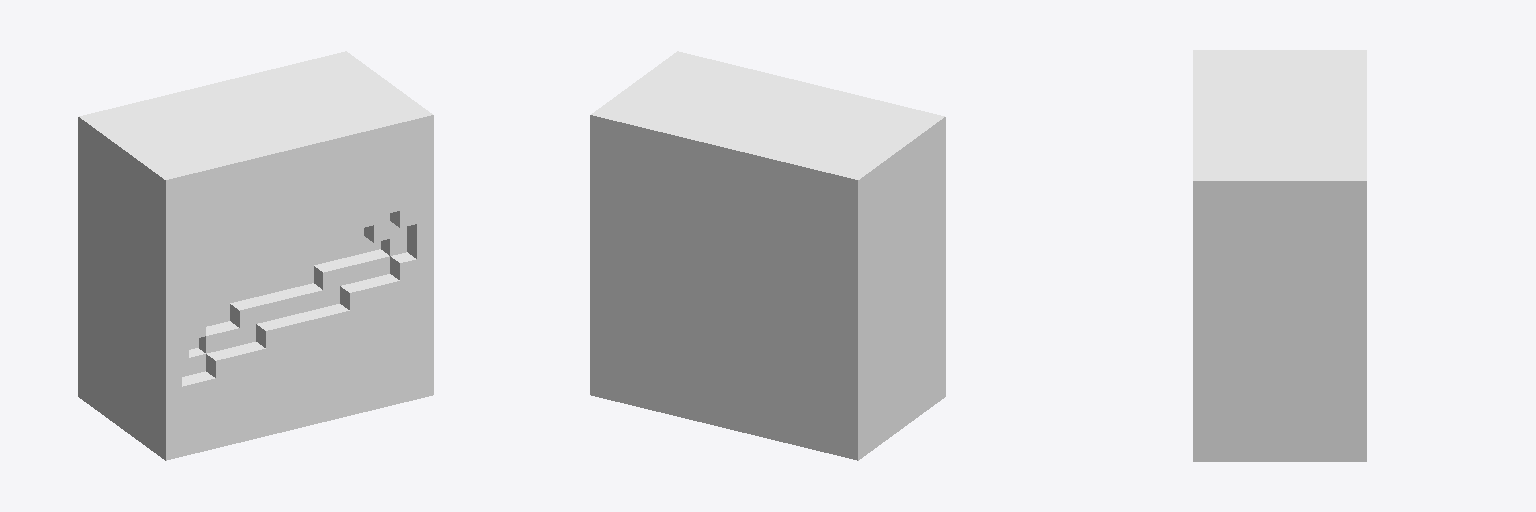
The model's file is wall_patterned_2.obj.
3 views of the same model, side by side, from view 1: azimuth 30°, elevation 25°; view 2: azimuth 150°, elevation 25°; view 3: azimuth 270°, elevation 25° (orthographic).
Bounding box in the file's own units: 16 × 16 × 9.